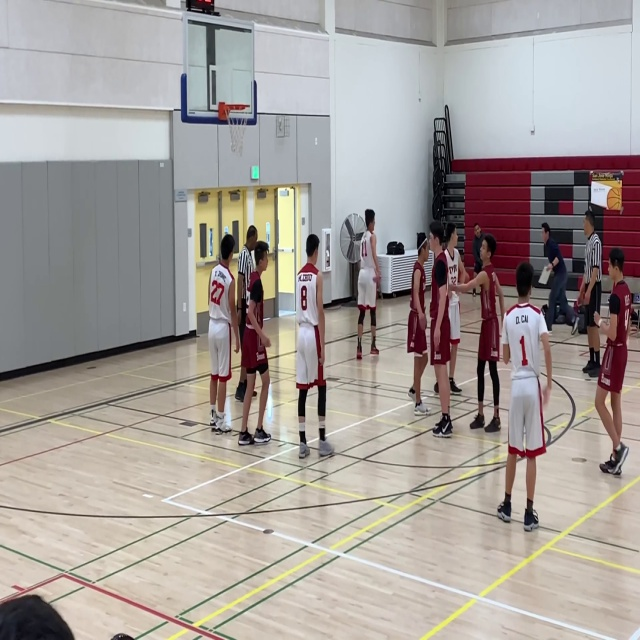Basketball: (111, 633, 135, 640)
